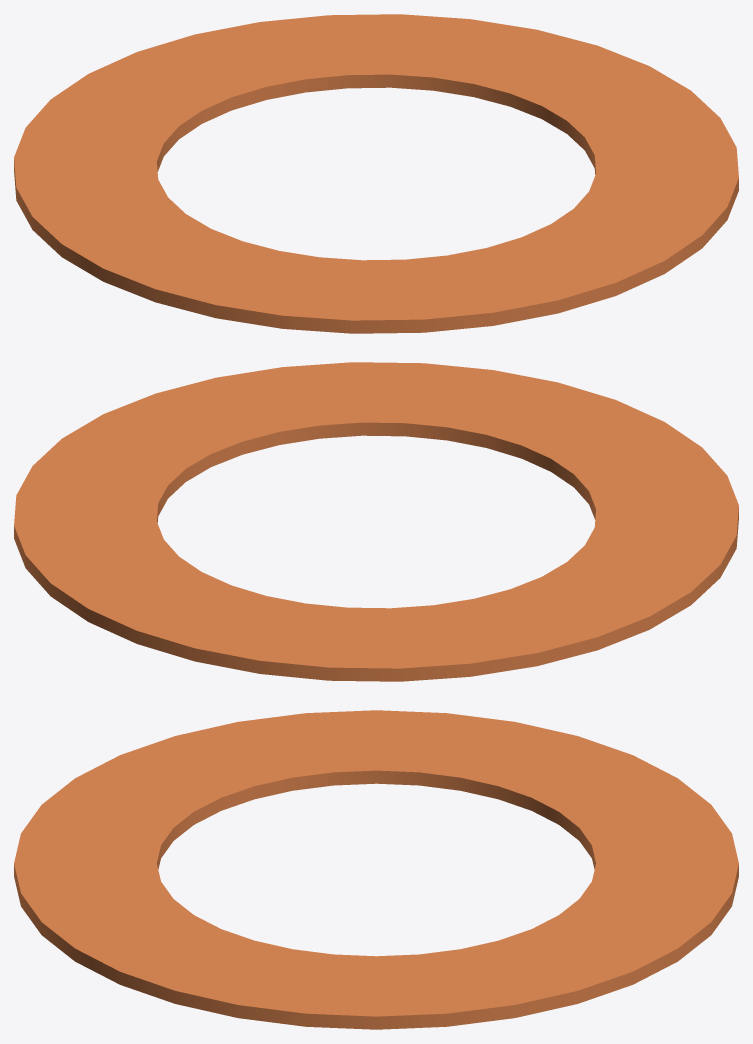
File: barrier.fbx
3 renders of one model, top to bottom at view 1: azimuth 30°, elevation 25°; view 2: azimuth 150°, elevation 25°; view 3: azimuth 270°, elevation 25°, orthographic.
Parts seen in each view (by area): view 1: Circle; view 2: Circle; view 3: Circle.
Part boxes in pixels (box(x1,y1,x2,y2)): Circle: box(14, 14, 738, 333); Circle: box(14, 362, 738, 681); Circle: box(14, 710, 738, 1029).
Bounding box in the file's own units: 10000 × 200 × 10000.
